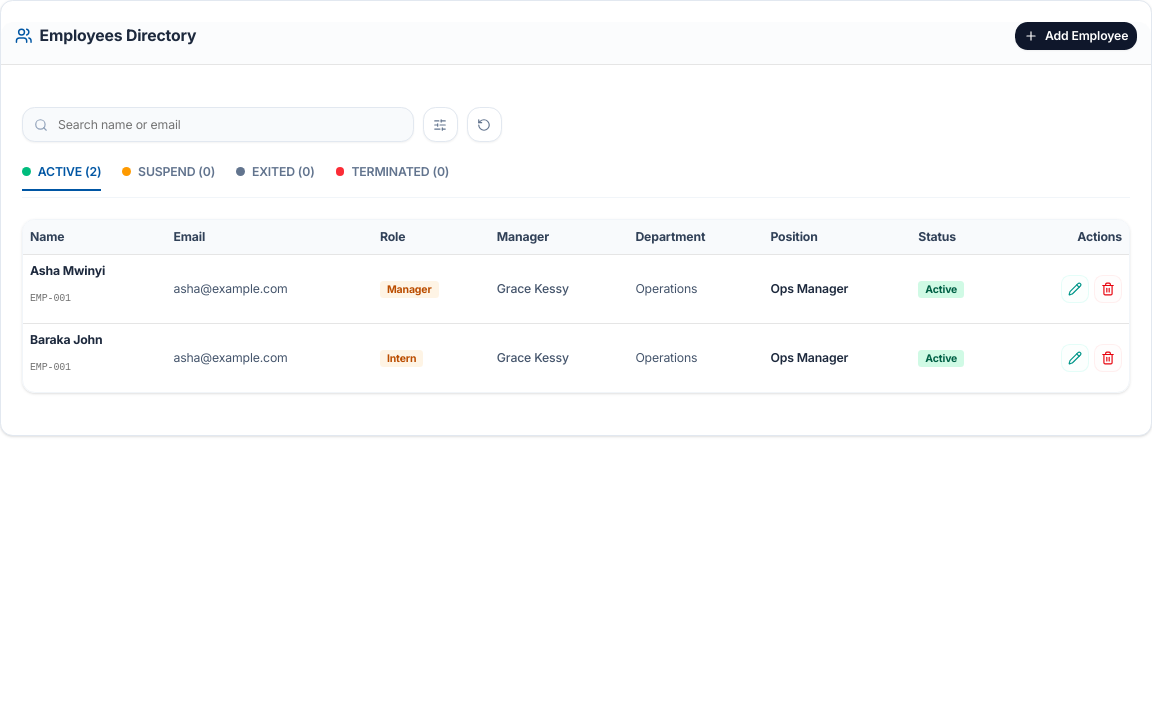
HRStaffSubtab › filters by role via the advanced filters panel
The image size is (1152, 720).
Click the button with class "lucide-sliders-horizontal" at (440, 124), box [423,107,458,142]
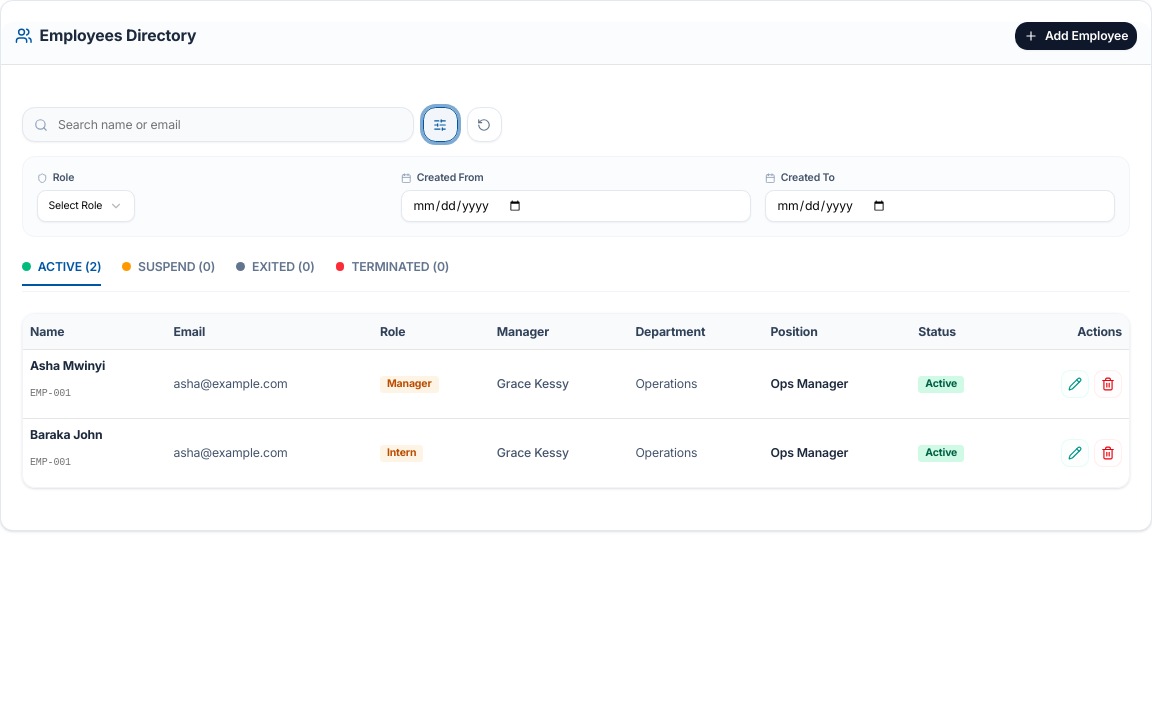
Click the dropdown at (86, 206), box [37,190,135,222]
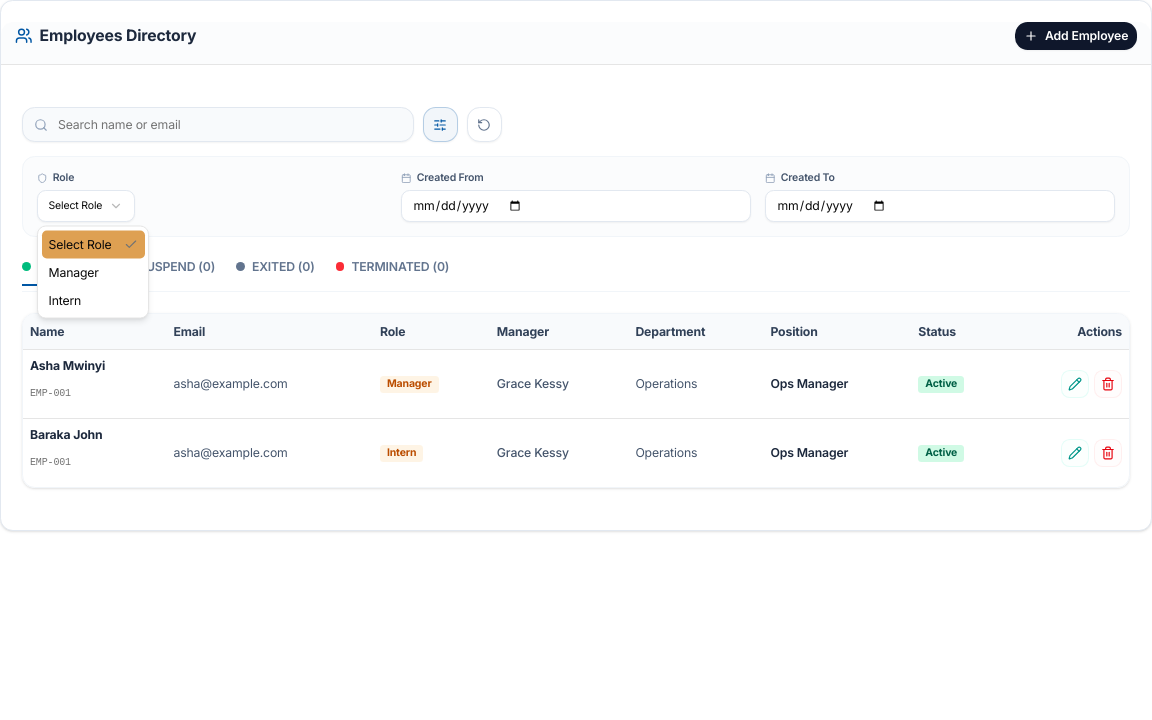
Click the option "Intern" at (65, 300), box [48,292,81,307]
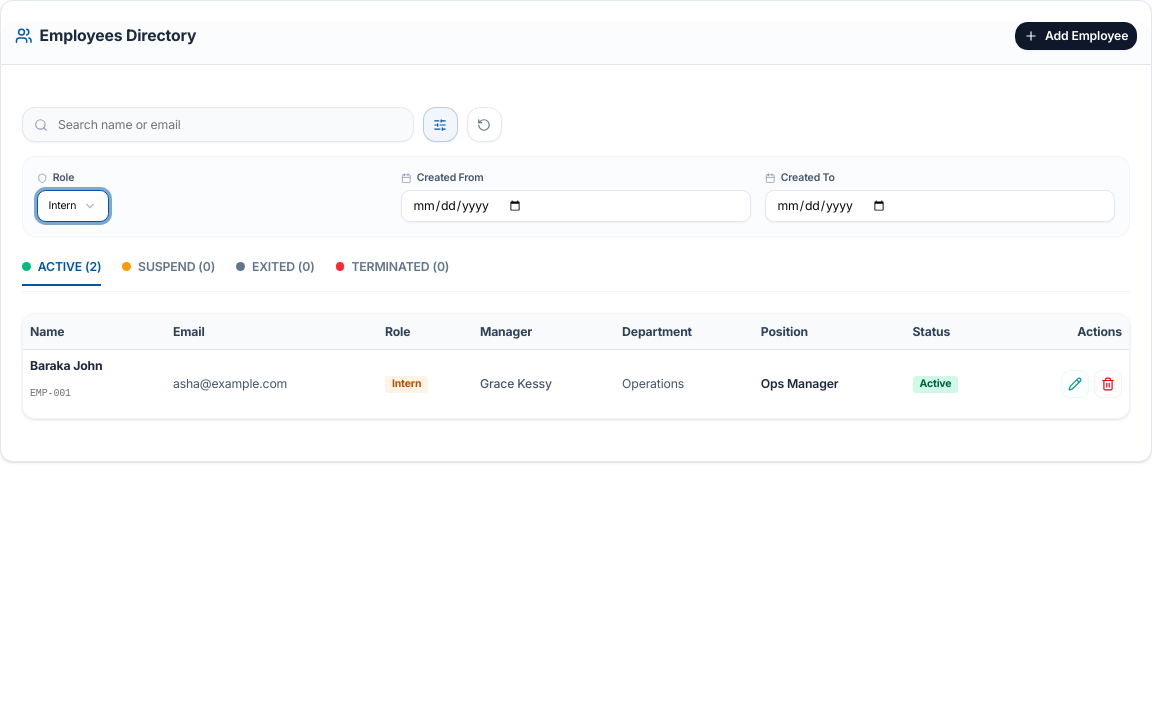
Expected: the text "Baraka John" is shown, [30,358,102,373]
Now the text "Asha Mwinyi" is gone
